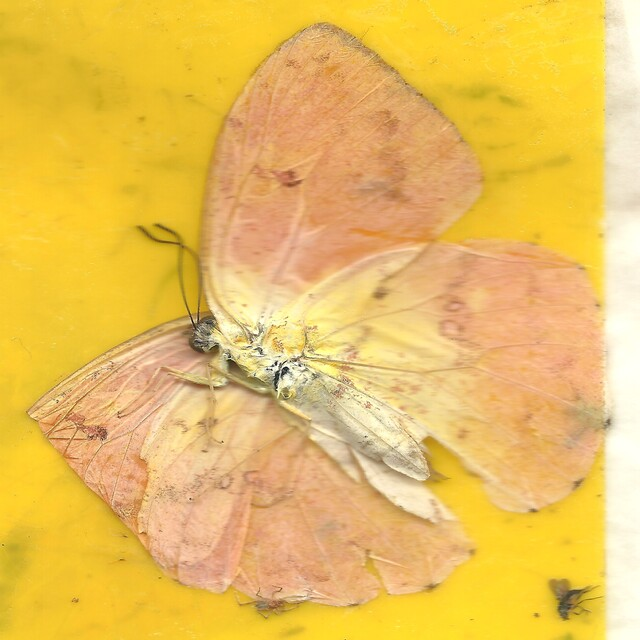Lepidoptera: (27, 21, 613, 607)
Odonata: (233, 584, 310, 619)
